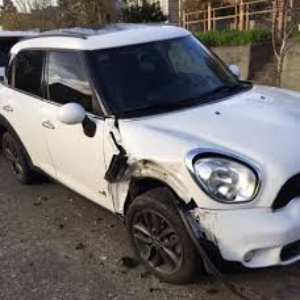bumper: (184, 202, 226, 257)
